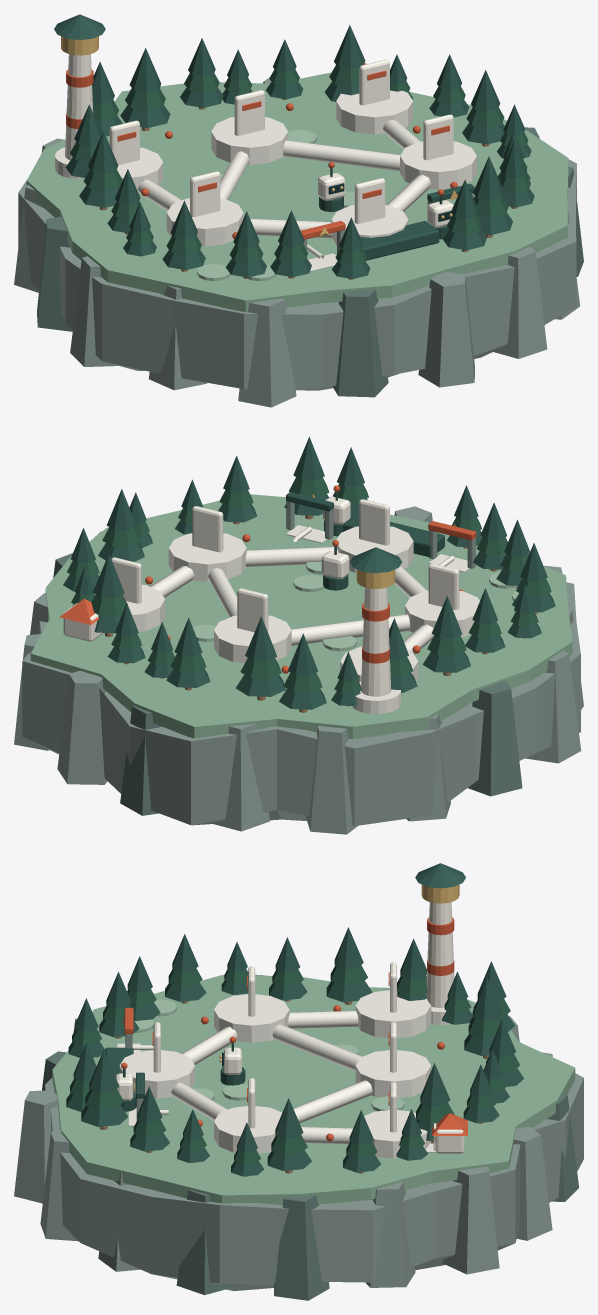
File: chapter-09.glb
The picture shows the model from 3 angles, top to bottom: view 1: azimuth 30°, elevation 25°; view 2: azimuth 150°, elevation 25°; view 3: azimuth 270°, elevation 25°; orthographic projection. The views are drawn at different scales.
Visible parts, largest first — view 1: terrain, rock_base, cliff_facet_13, cliff_facet_12, cliff_facet_11, cliff_facet_14, page_plinth_2, page_plinth_4, cliff_facet_08, page_plinth_5, cliff_facet_09, route.004 (+55 smaller); view 2: terrain, rock_base, cliff_facet_03, cliff_facet_08, cliff_facet_06, cliff_facet_05, cliff_facet_09, page_plinth_2, beacon, cliff_facet_04, page_plinth_4, page_plinth_1 (+51 smaller); view 3: terrain, rock_base, cliff_facet_00, cliff_facet_02, cliff_facet_13, cliff_facet_01, cliff_facet_03, page_plinth_1, page_plinth_3, page_plinth_4, page_plinth_0, page_plinth_2 (+30 smaller).
Boxes of the visible parts, x1,y1,x2,y2 form: terrain: (26,72,568,312); rock_base: (18,159,576,390); cliff_facet_13: (418,272,474,387); cliff_facet_12: (333,289,388,397); cliff_facet_11: (238,298,296,407); cliff_facet_14: (491,246,547,358); page_plinth_2: (400,141,476,189); page_plinth_4: (211,117,288,165); cliff_facet_08: (37,216,72,331); page_plinth_5: (336,90,413,134); cliff_facet_09: (70,256,120,366); route.004: (283,140,400,171); terrain: (30,494,572,738); rock_base: (22,531,580,826); cliff_facet_03: (57,670,107,784); cliff_facet_08: (468,680,522,796); cliff_facet_06: (305,726,357,834); cliff_facet_05: (213,723,269,831); cliff_facet_09: (525,650,581,763); page_plinth_2: (168,533,246,581); beacon: (361,587,391,696); cliff_facet_04: (120,705,161,815); page_plinth_4: (214,615,291,663); page_plinth_1: (405,591,479,637); terrain: (52,975,575,1205); rock_base: (45,1040,583,1290); cliff_facet_00: (274,1195,329,1300); cliff_facet_02: (442,1166,499,1274); cliff_facet_13: (14,1090,57,1203); cliff_facet_01: (365,1181,415,1287); cliff_facet_03: (513,1127,552,1240); page_plinth_1: (214,994,289,1042); page_plinth_3: (355,990,431,1038); page_plinth_4: (355,1050,431,1097); page_plinth_0: (119,1050,194,1098); page_plinth_2: (214,1106,281,1153).
Size of the model in its own units: 11.88 by 6.21 by 12.07.
